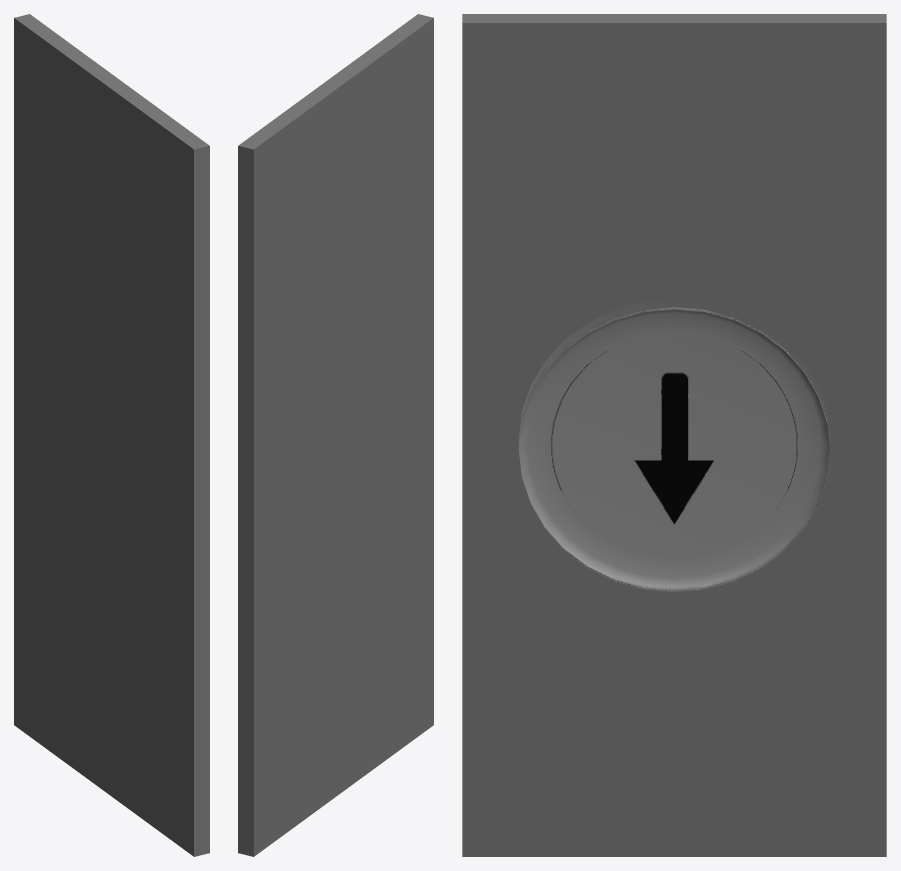
Rendered from Chamar elevador.fbx.
3 views of the same model, side by side, from view 1: azimuth 30°, elevation 25°; view 2: azimuth 150°, elevation 25°; view 3: azimuth 270°, elevation 25° (orthographic). The views are drawn at different scales.
Visible parts, largest first — view 1: ala cacete; view 2: ala cacete; view 3: ala cacete, Cylinder.
Boxes of the visible parts, x1,y1,x2,y2 form: ala cacete: (14,14,209,856); ala cacete: (238,14,433,856); ala cacete: (462,14,886,856); Cylinder: (518,299,830,591).
Bounding box in the file's own units: 53.94 × 1050 × 485.
2 materials, 1 textured.
